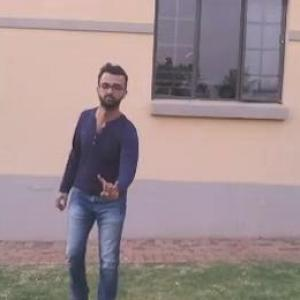takeoff-hand: (94, 164, 126, 202)
